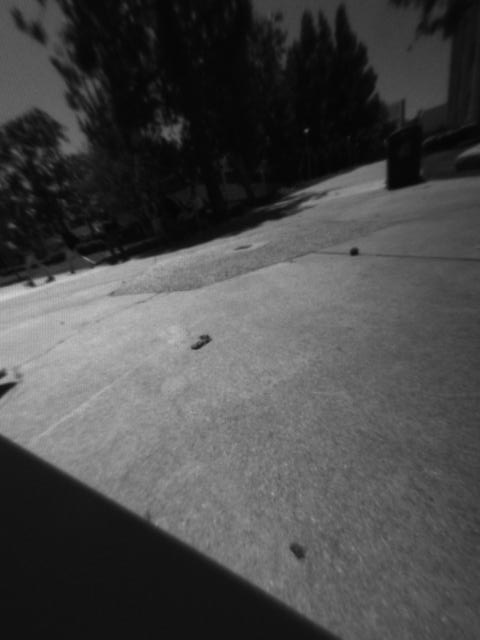dogtoy: (345, 237, 363, 263)
